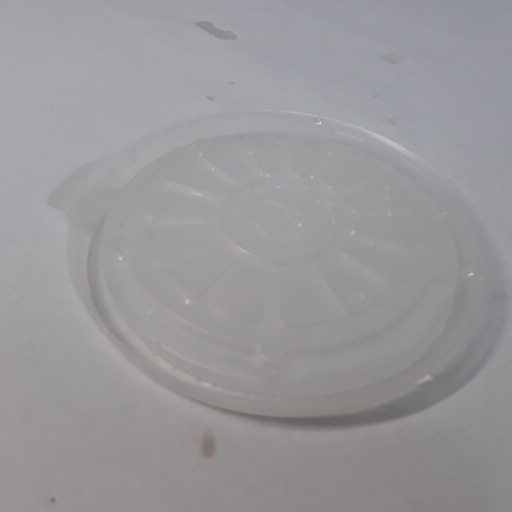Plastic_5: (72, 116, 499, 420)
